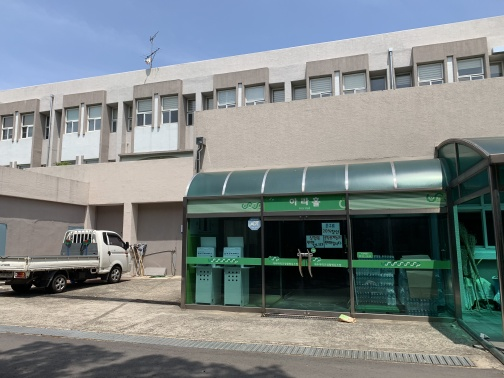Ara Hall: (177, 104, 503, 337)
